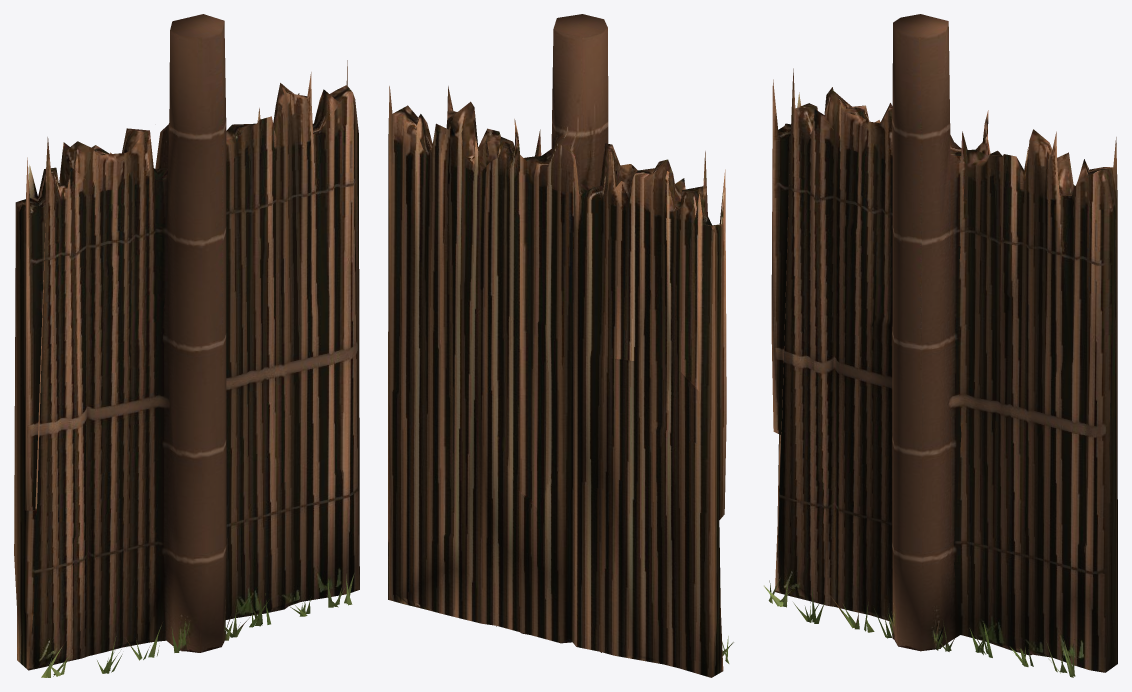
Rendered from fence_reed_post.glb.
3 renders of one model, left to right at view 1: azimuth 30°, elevation 25°; view 2: azimuth 150°, elevation 25°; view 3: azimuth 330°, elevation 25°, orthographic. The views are drawn at different scales.
Parts seen in each view (by area): view 1: fence_reed_post_lod0; view 2: fence_reed_post_lod0; view 3: fence_reed_post_lod0.
Boxes of the visible parts, x1,y1,x2,y2 form: fence_reed_post_lod0: [14, 14, 359, 677]; fence_reed_post_lod0: [388, 14, 733, 677]; fence_reed_post_lod0: [764, 14, 1117, 677].
Bounding box in the file's own units: 1 × 1.74 × 0.1979.
1 material, 1 textured.
